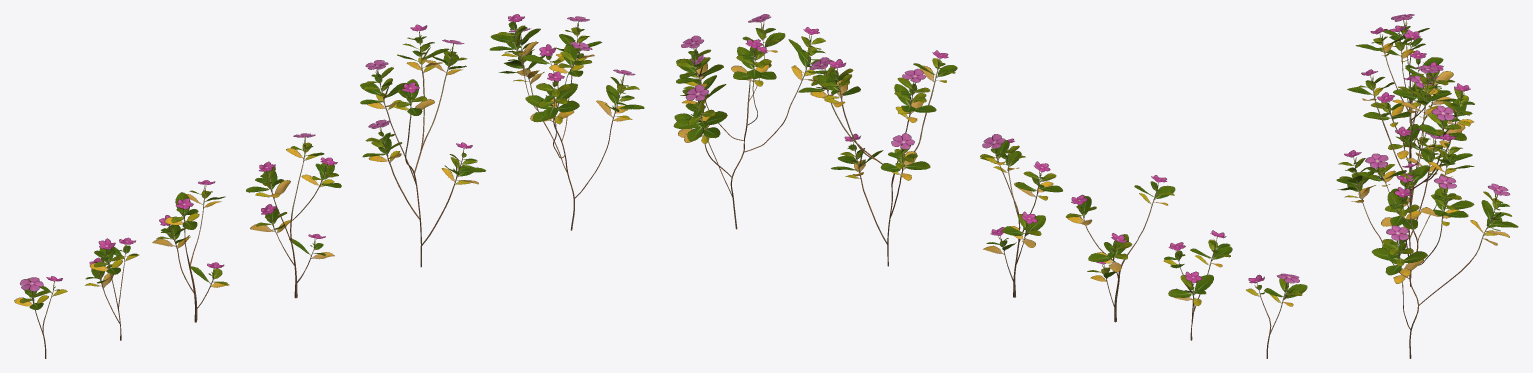
Rendered from periwinkle_plant.glb.
3 renders of one model, left to right at view 1: azimuth 30°, elevation 25°; view 2: azimuth 150°, elevation 25°; view 3: azimuth 270°, elevation 25°, orthographic. The views are drawn at different scales.
Parts seen in each view (by area): view 1: periwinkle_plant_04_LOD0; view 2: periwinkle_plant_04_LOD0; view 3: periwinkle_plant_04_LOD0.
Part boxes in pixels (x1,y1,x2,y2): periwinkle_plant_04_LOD0: (14, 14, 644, 358); periwinkle_plant_04_LOD0: (673, 14, 1307, 358); periwinkle_plant_04_LOD0: (1336, 14, 1518, 358).
Bounding box in the file's own units: 1.24 × 0.4107 × 0.3207.
Materials: 1 (1 with a texture image).
